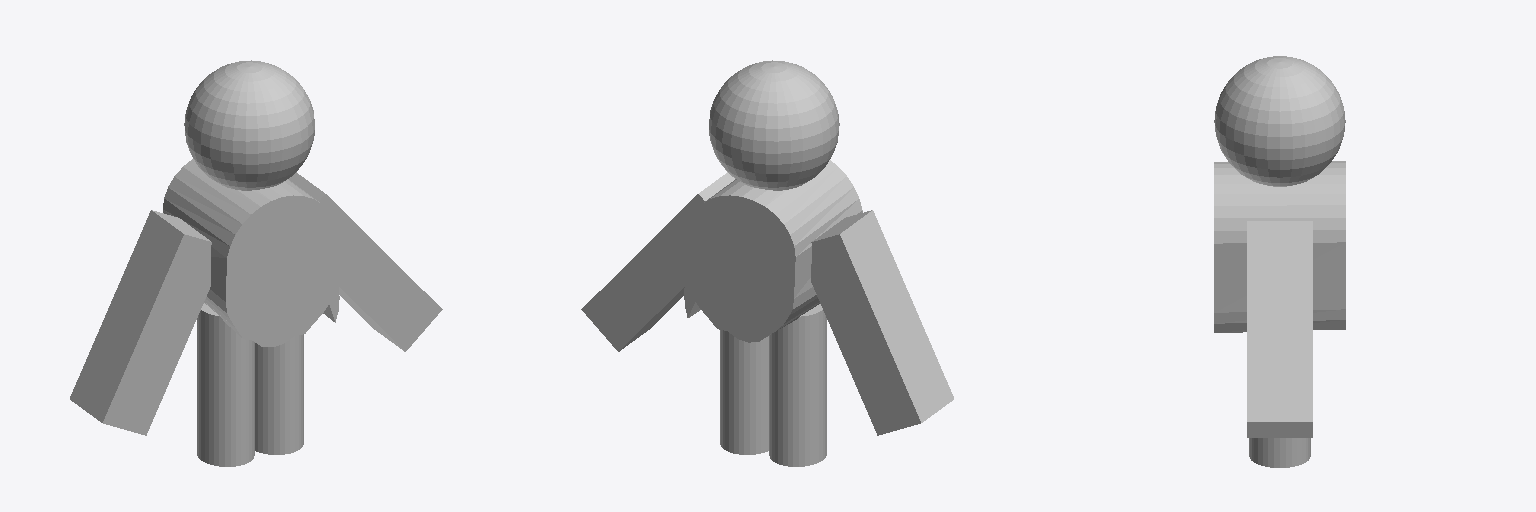
The model's file is Figurine40.obj.
3 renders of one model, left to right at view 1: azimuth 30°, elevation 25°; view 2: azimuth 150°, elevation 25°; view 3: azimuth 270°, elevation 25°, orthographic.
Visible parts, largest first — view 1: Cylinder; view 2: Cylinder; view 3: Cylinder.
Boxes of the visible parts, x1=… form: Cylinder: x1=70, y1=60, x2=442, y2=466; Cylinder: x1=581, y1=60, x2=953, y2=466; Cylinder: x1=1214, y1=56, x2=1345, y2=467.
Bounding box in the file's own units: 5.99 × 6.42 × 2.